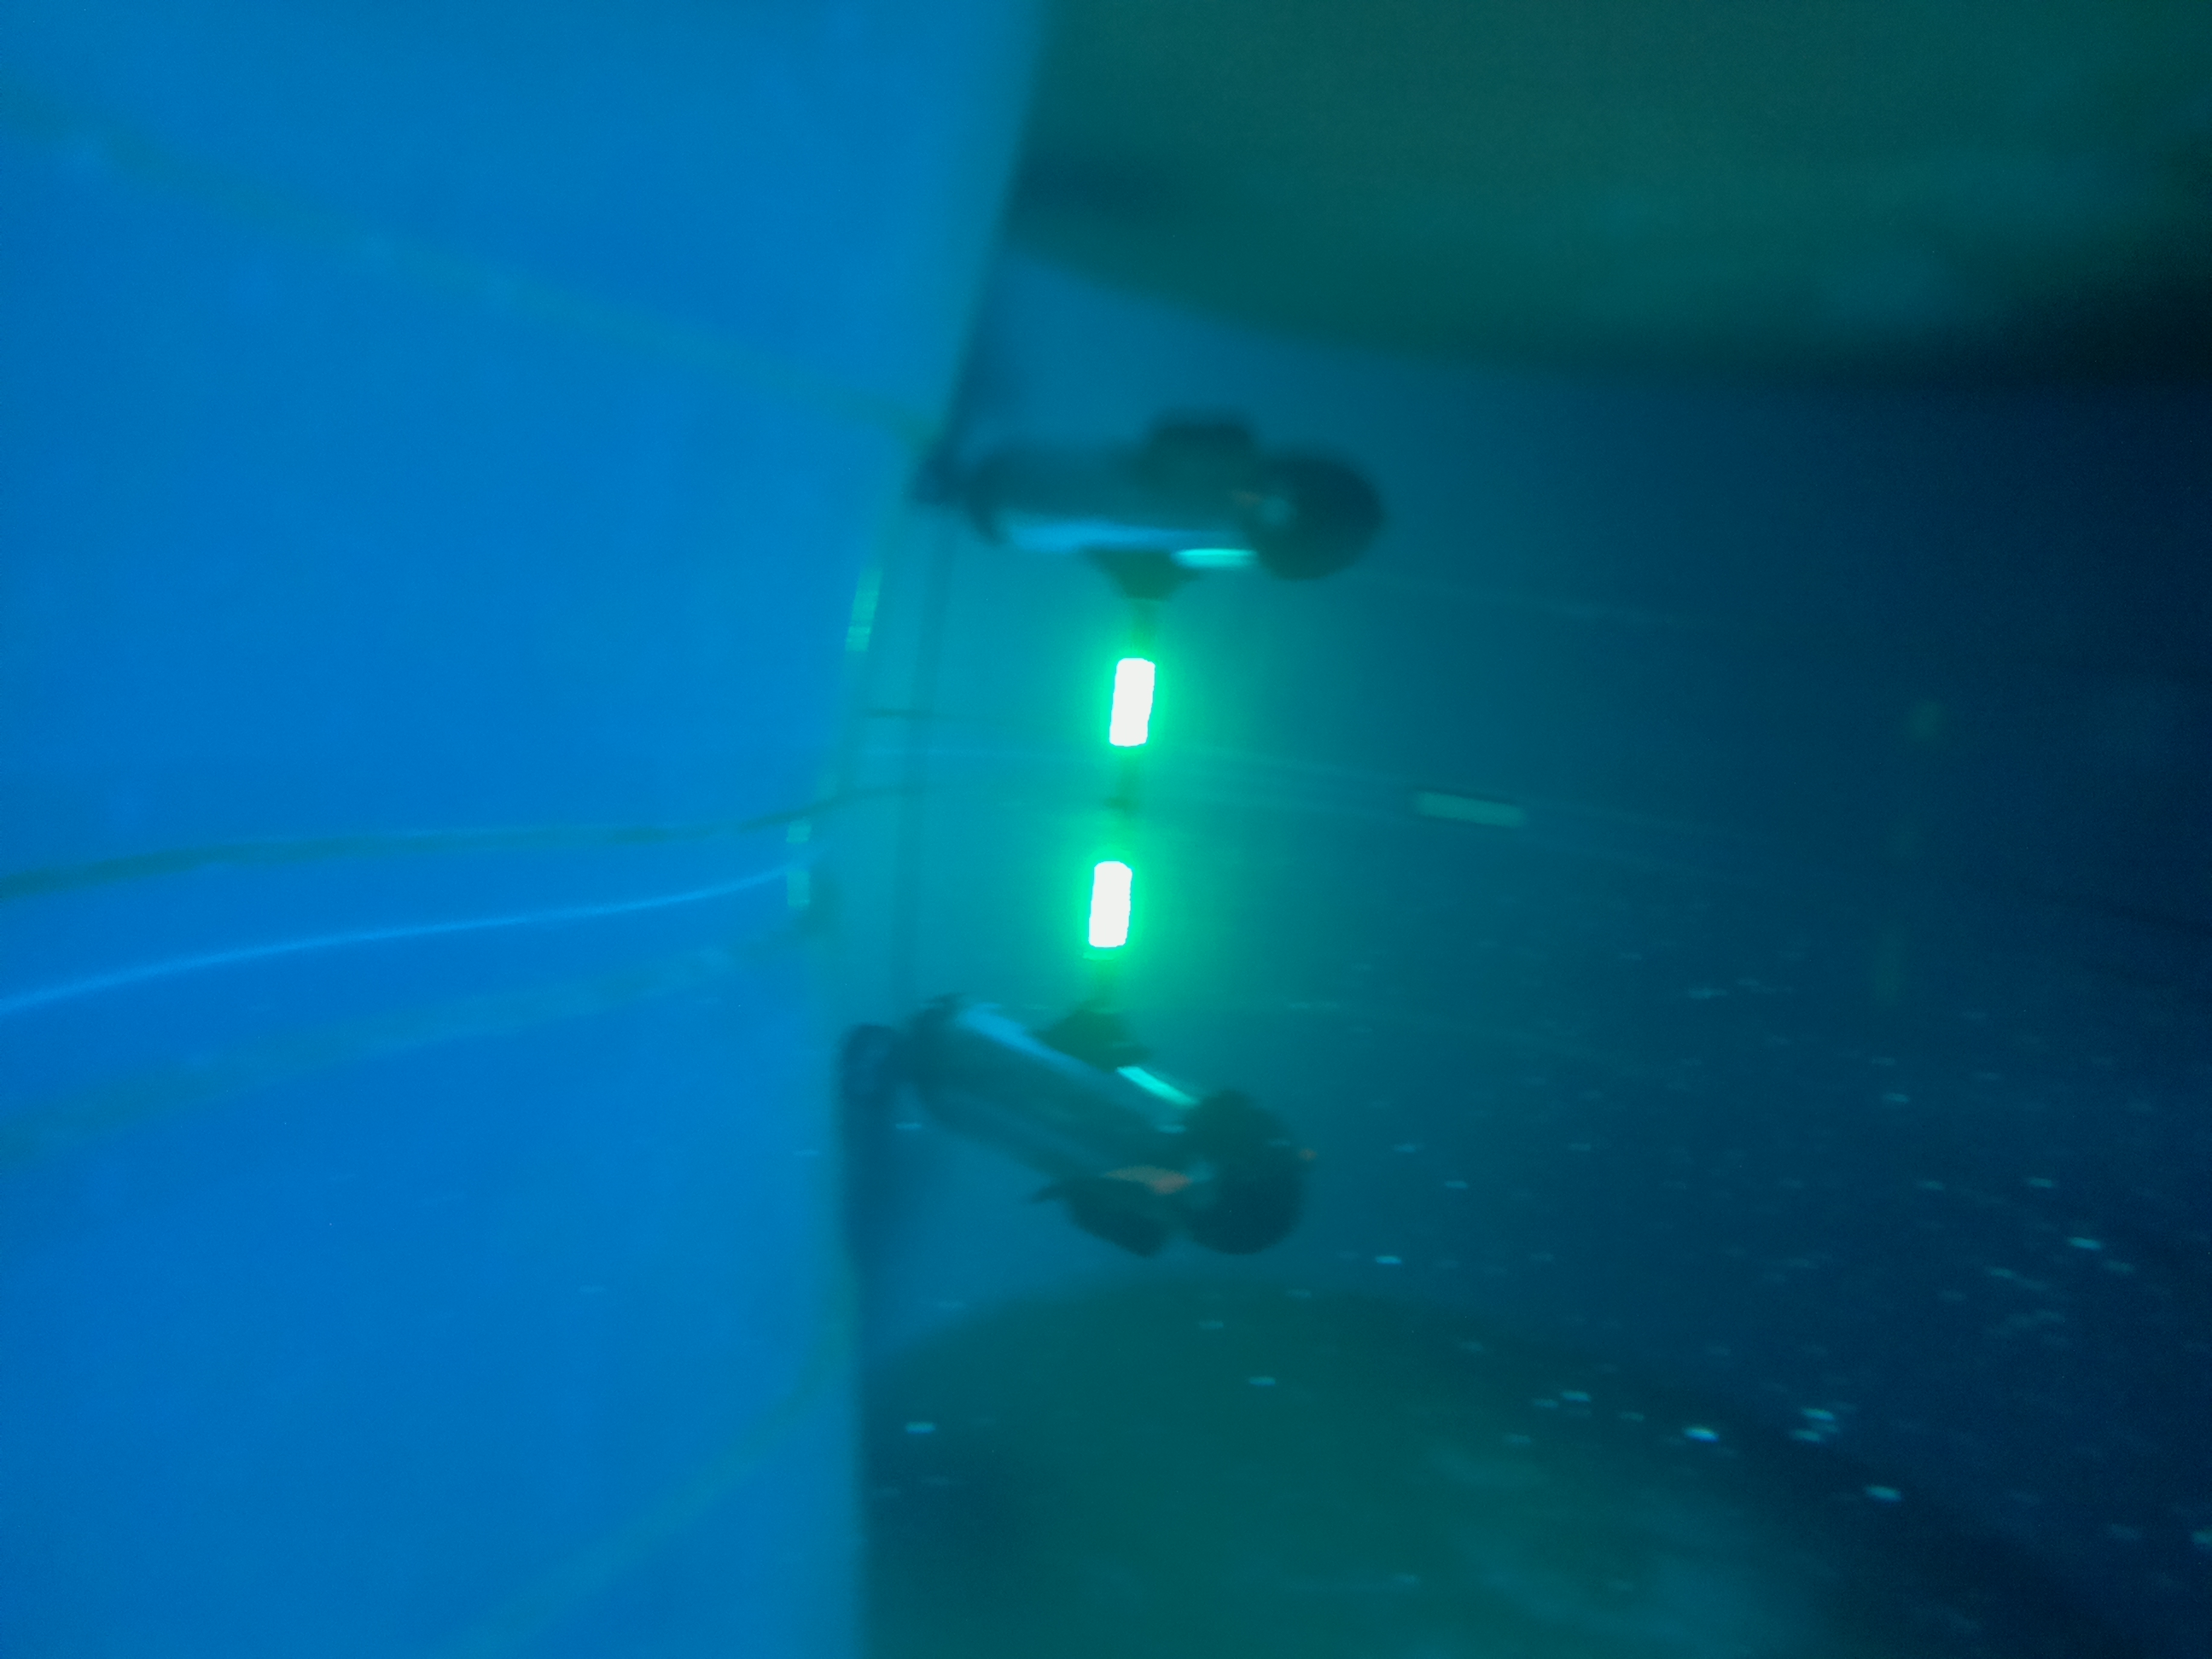green: (1083, 828, 1132, 1023)
